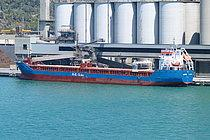Ship: (12, 56, 198, 89)
